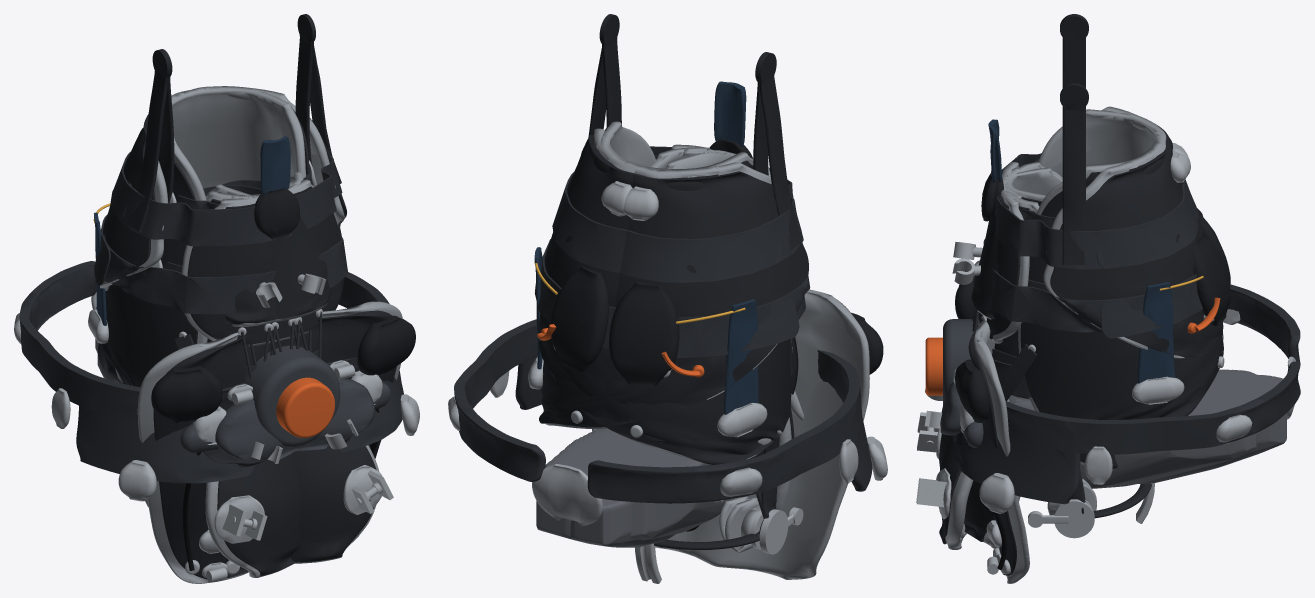
File: sitka_parts.glb
3 renders of one model, left to right at view 1: azimuth 30°, elevation 25°; view 2: azimuth 150°, elevation 25°; view 3: azimuth 270°, elevation 25°, orthographic. The views are drawn at different scales.
Visible parts, largest first — view 1: hip_belt, thigh_liner_l, back_panel, thigh_shell_r, seat_cup_r, seat_cup_l, thigh_strap1_l, thigh_strap0_l, p1_battery, p1_motor, back_panel_liner, thigh_cuff_l (+30 smaller); view 2: thigh_shell_l, hip_belt, thigh_shell_r, back_panel_liner, thigh_strap1_l, knee_manifold_r, shoe_r, shoe_l, knee_manifold_l, thigh_strap1_r, thigh_liner_l, thigh_arm_med_l (+22 smaller); view 3: hip_belt, thigh_shell_l, thigh_shell_r, thigh_strap1_r, thigh_liner_r, shoe_l, thigh_strap0_r, thigh_arm_med_r, shoe_r, back_panel_liner, sit_leaf_l, knee_manifold_l (+29 smaller).
Part boxes in pixels (x1,y1,x2,y2): hip_belt: (19,261,403,483); thigh_liner_l: (100,87,306,290); back_panel: (153,310,396,579); thigh_shell_r: (98,118,346,387); seat_cup_r: (290,446,376,562); seat_cup_l: (217,452,300,575); thigh_strap1_l: (110,151,312,246); thigh_strap0_l: (95,214,276,314); p1_battery: (215,378,374,460); p1_motor: (244,345,340,447); back_panel_liner: (137,301,402,583); thigh_cuff_l: (187,204,291,345); thigh_shell_l: (539,126,808,427); hip_belt: (454,319,872,503); thigh_shell_r: (536,135,791,464); back_panel_liner: (592,289,869,579); thigh_strap1_l: (619,155,803,282); knee_manifold_r: (609,282,679,386); shoe_r: (536,435,731,540); shoe_l: (545,428,675,547); knee_manifold_l: (550,266,608,371); thigh_strap1_r: (552,146,781,272); thigh_liner_l: (545,121,777,428); thigh_arm_med_l: (757,52,802,250); hip_belt: (953,284,1300,504); thigh_shell_l: (1020,124,1223,419); thigh_shell_r: (1050,140,1223,356); thigh_strap1_r: (989,159,1198,269); thigh_liner_r: (1038,109,1184,358); shoe_l: (1009,374,1283,488); thigh_strap0_r: (991,269,1202,332); thigh_arm_med_r: (1060,83,1088,264); shoe_r: (1008,369,1286,483); back_panel_liner: (974,260,1029,583); sit_leaf_l: (1137,282,1174,383); knee_manifold_l: (1193,232,1230,325).
Bounding box in the file's own units: 0.3862 × 0.5695 × 0.3966.
